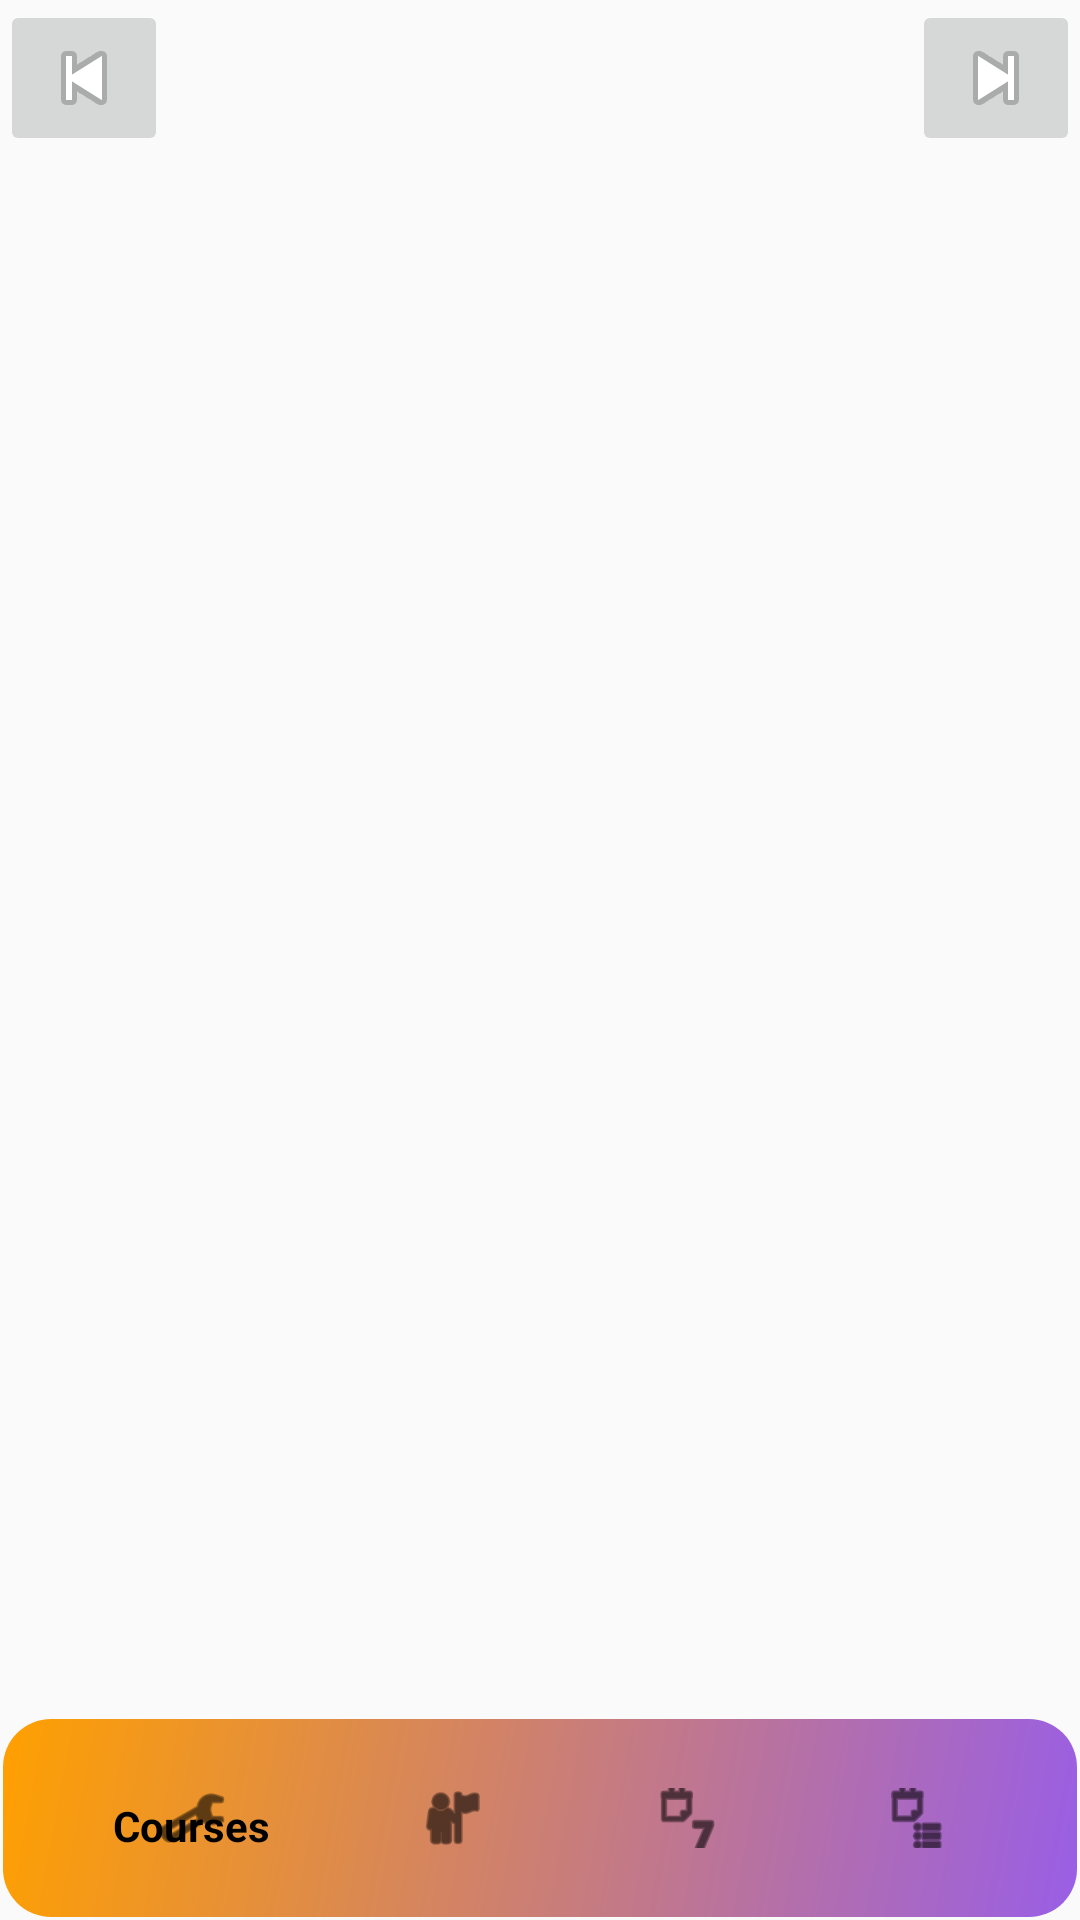

Screen size 1080x1920. Icon name, then its center in pixels as [x,y]:
next: [996,78]
previous: [84,78]
